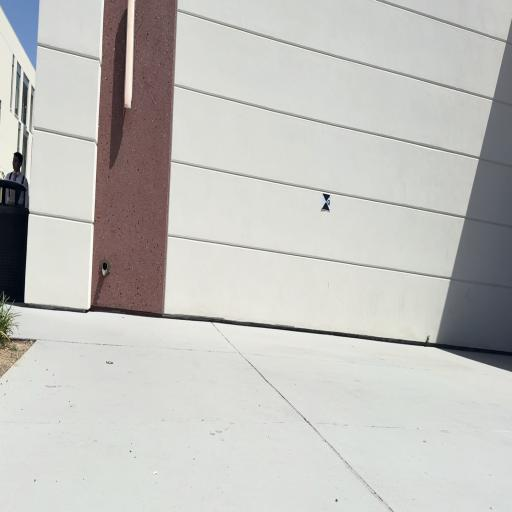target0: (321, 192, 331, 212)
